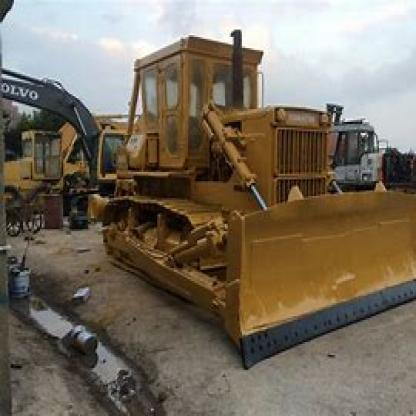bull_dozer/loader/grader: (81, 22, 414, 374)
